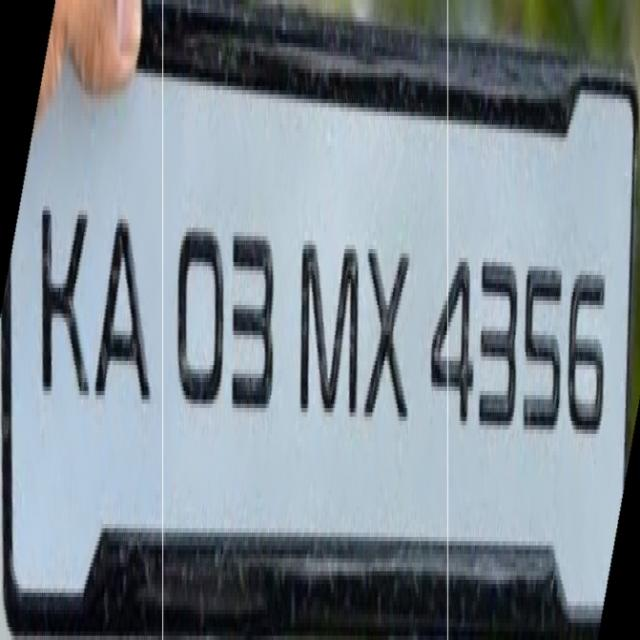0: (173, 210, 226, 422)
3: (472, 213, 520, 452), (228, 224, 276, 433)
4: (428, 210, 477, 447)
5: (521, 241, 565, 445)
6: (568, 247, 606, 470)
A: (94, 184, 158, 435)
K: (36, 181, 92, 445)
M: (298, 212, 362, 433)
X: (364, 224, 411, 445)
